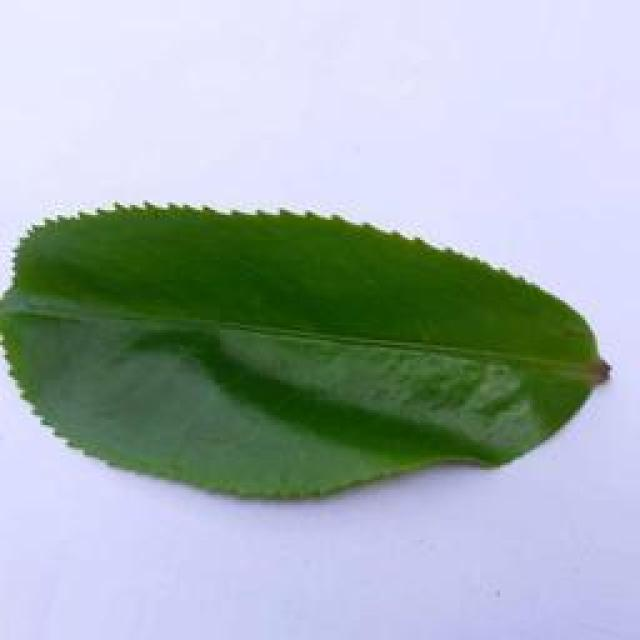Healthy: (0, 193, 614, 506)
